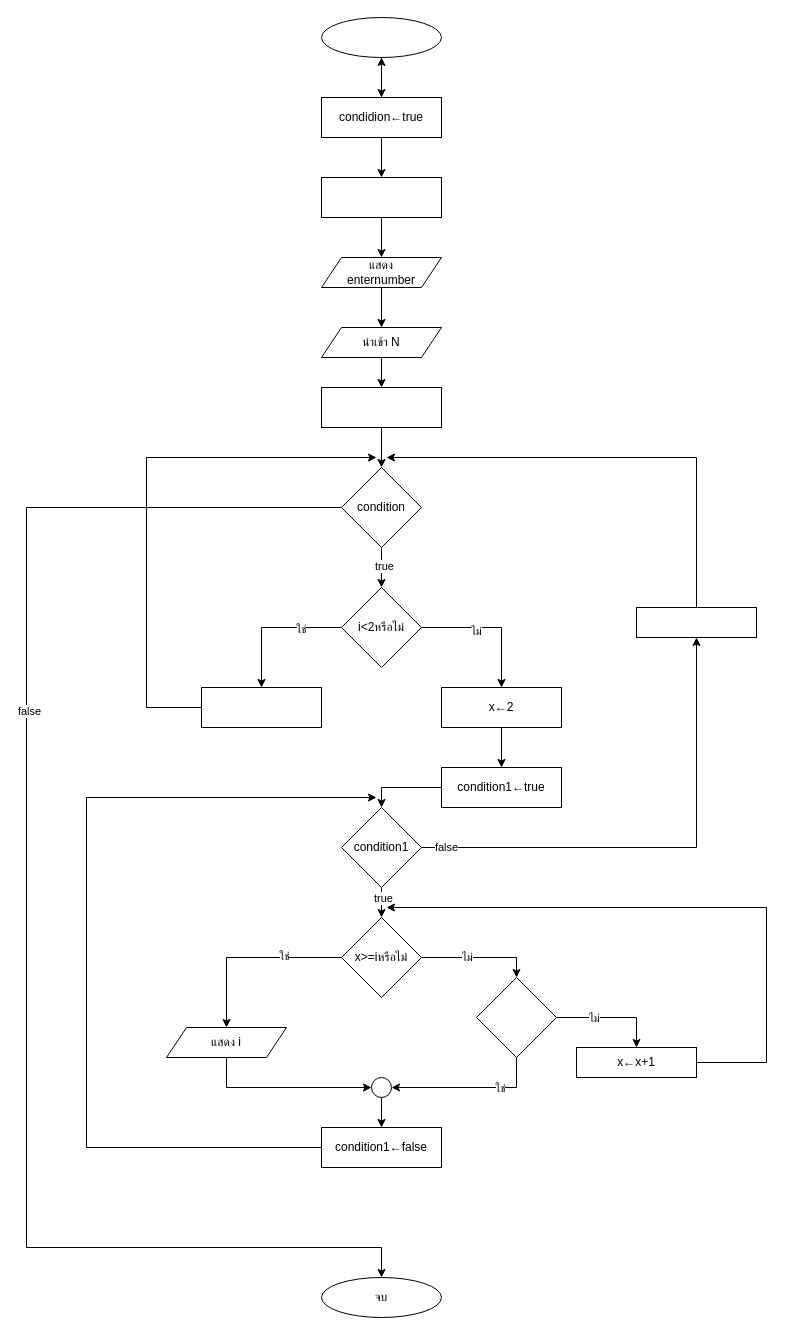
The diagram is 792 pixels wide and 1335 high, and some of its shapes have lost their labels. Here are the shapes that lost their labels. From the top down, the box of each, then its label:
(320, 16, 442, 58): เริ่ม
(320, 176, 442, 218): N←0
(320, 386, 442, 428): I←N
(636, 606, 756, 638): i←i+1
(200, 686, 322, 728): condition←false
(476, 976, 556, 1058): iหารxลง ตัวหรือไม่
